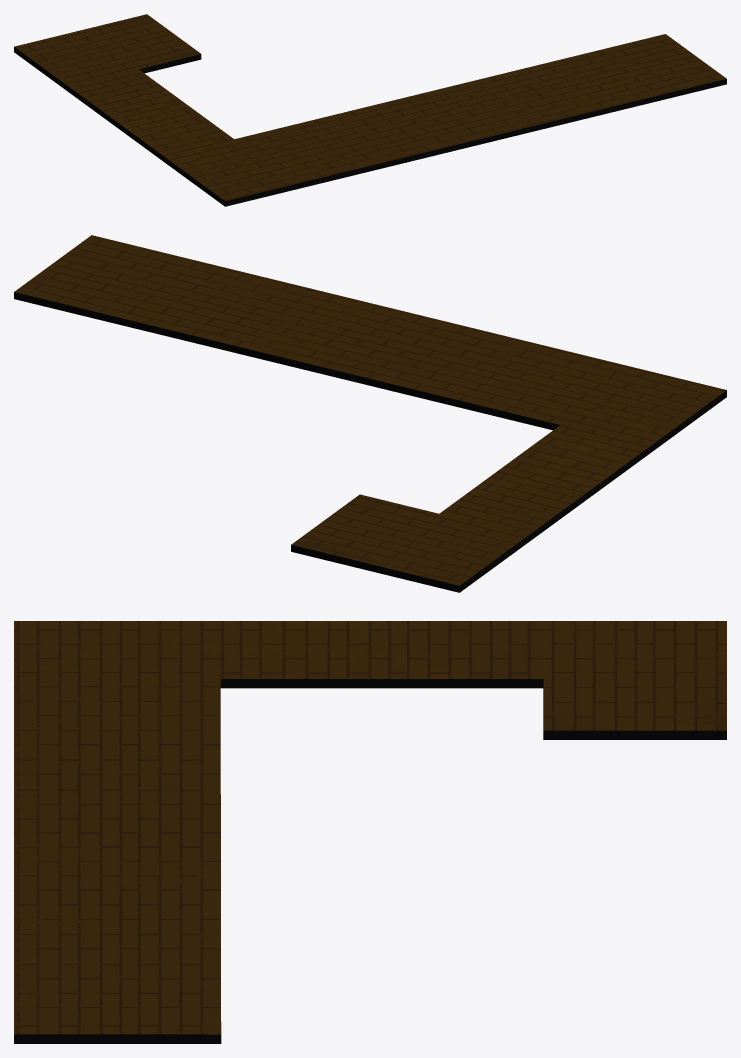
The model's file is CorridorFloor.obj.
The picture shows the model from 3 angles, top to bottom: view 1: azimuth 30°, elevation 25°; view 2: azimuth 150°, elevation 25°; view 3: azimuth 270°, elevation 25°; orthographic projection. The views are drawn at different scales.
Visible parts, largest first — view 1: CorridorFloor; view 2: CorridorFloor; view 3: CorridorFloor.
Boxes of the visible parts, bbox=[...] form: CorridorFloor: bbox=[14, 14, 726, 206]; CorridorFloor: bbox=[14, 235, 726, 592]; CorridorFloor: bbox=[14, 621, 726, 1043].
Size of the model in its own units: 1638 by 17.53 by 1194.
